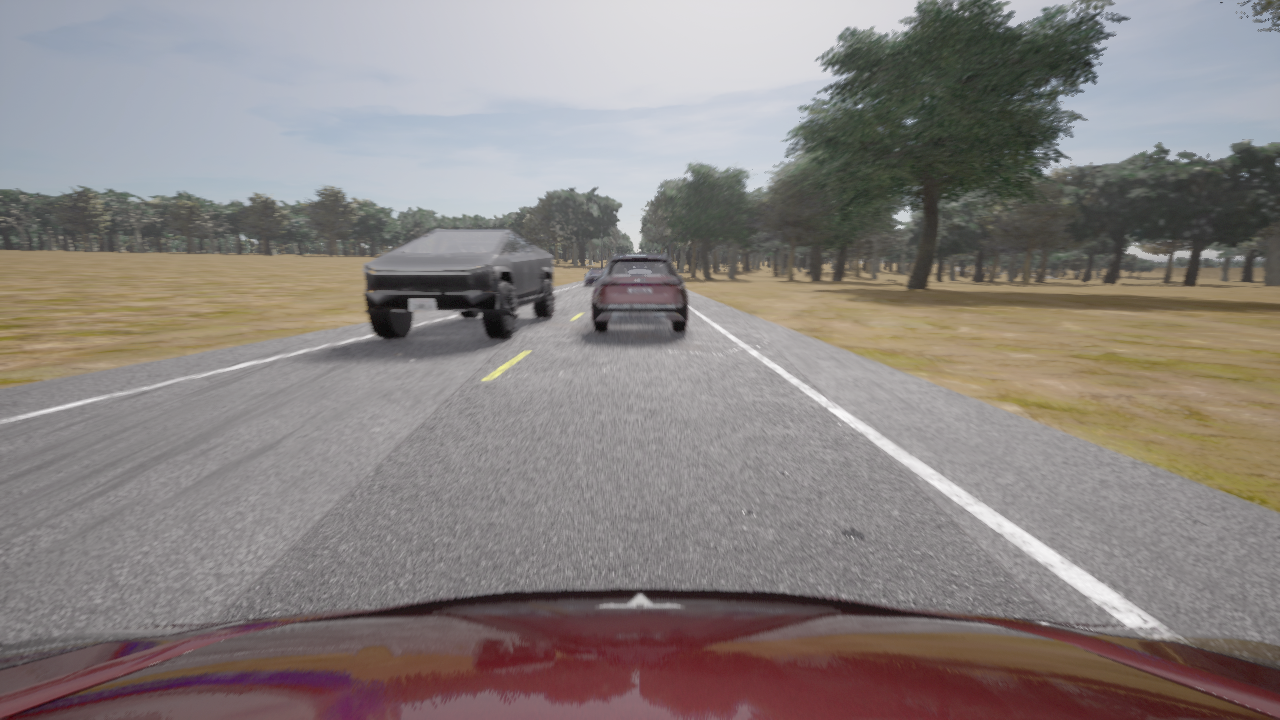cyclist: (0, 588, 1279, 719), (363, 230, 555, 340), (592, 253, 687, 332), (584, 269, 604, 286)
